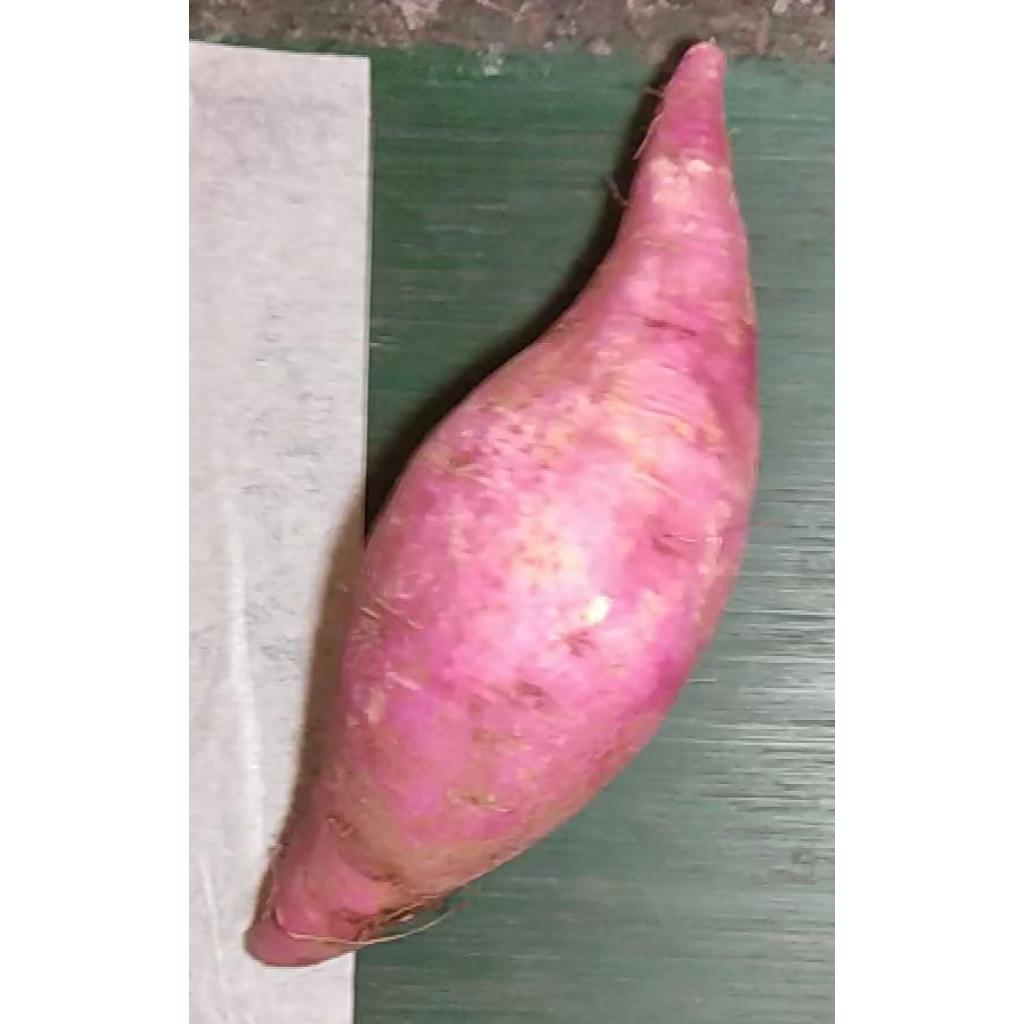Sweet Potato: (244, 40, 762, 973)
